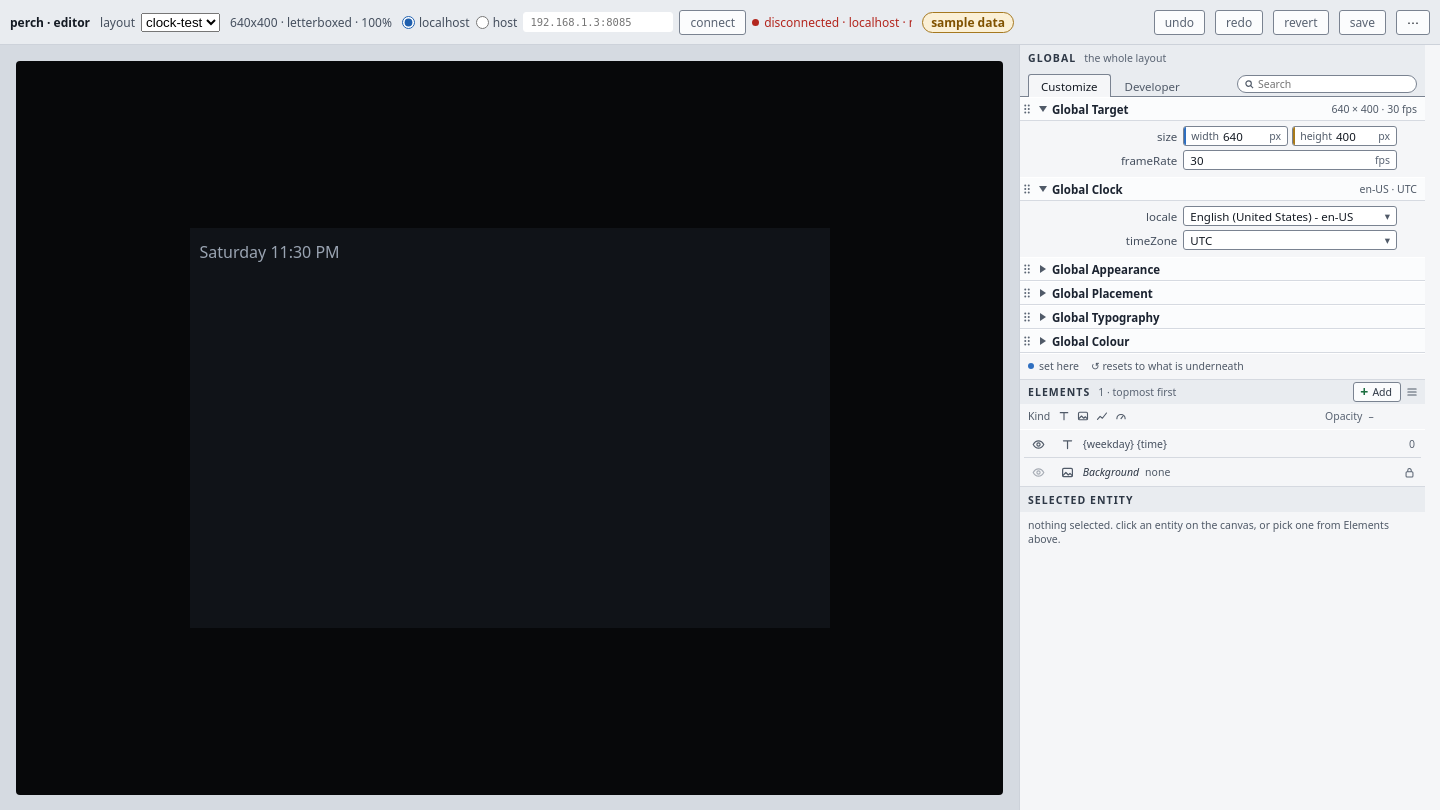
Test: the layout clock rows › repaints the preview clock in the locale and zone chosen
Click the button named "locale".
click(1290, 216)  # box 1183,206 -> 1397,226
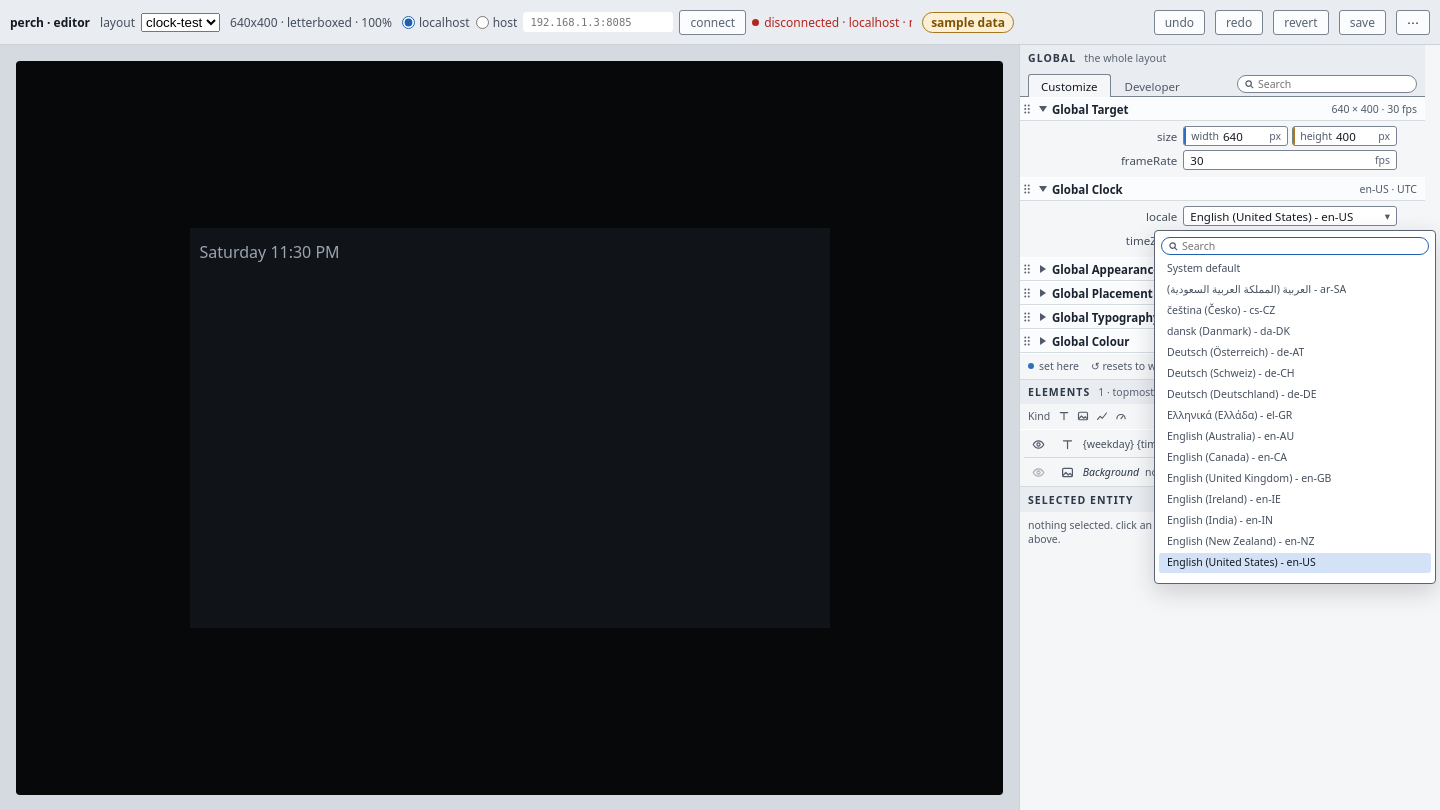
Click the option "Deutsch (Deutschland) - de-DE".
click(1295, 395)  # box 1159,385 -> 1431,405
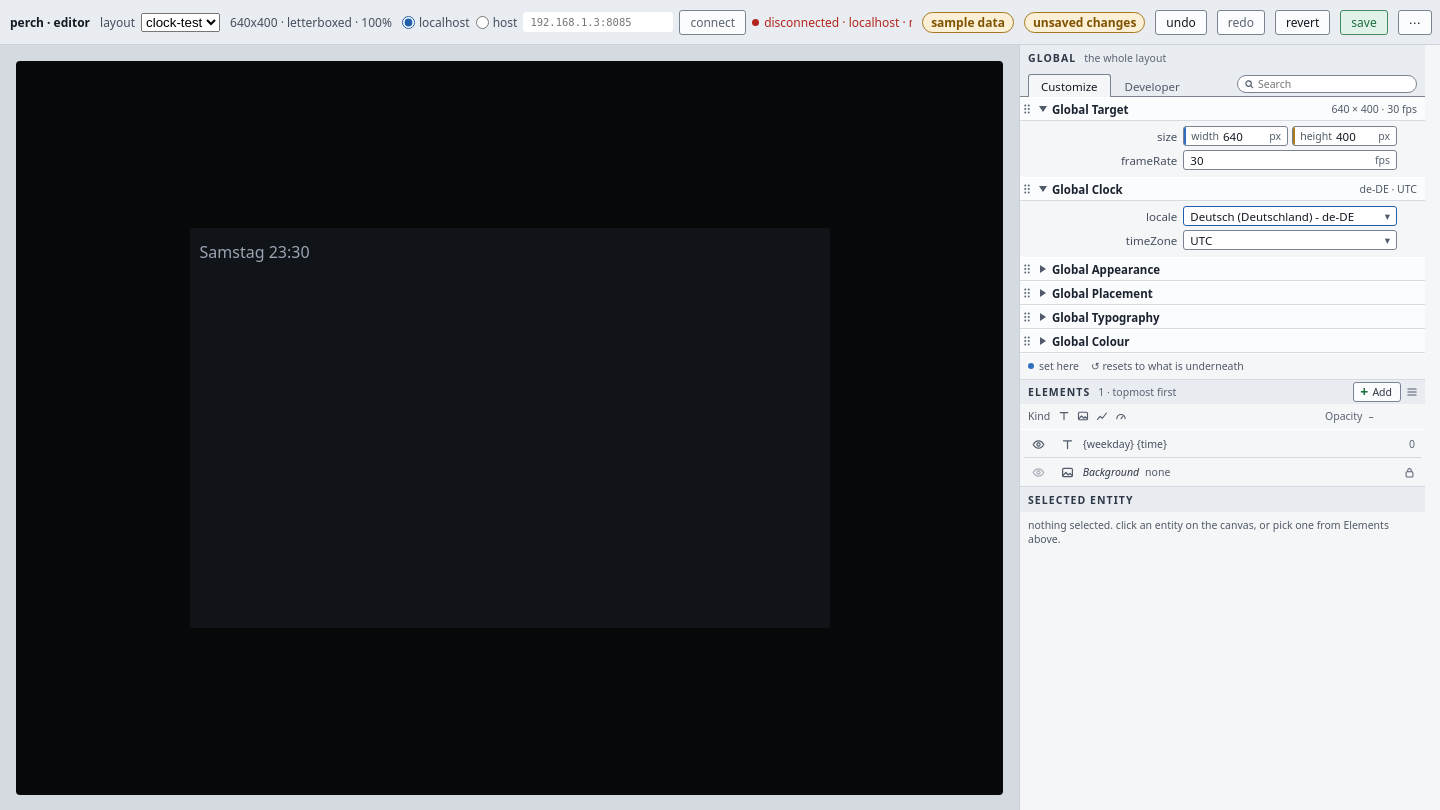
Check: the element showing "Samstag 23:30" is shown, box 200,242 -> 310,263
Check: the button named "locale" shows "Deutsch (Deutschland) - de-DE", box 1183,206 -> 1397,226
Click the button "UTC ▾".
click(1290, 240)  # box 1183,230 -> 1397,250
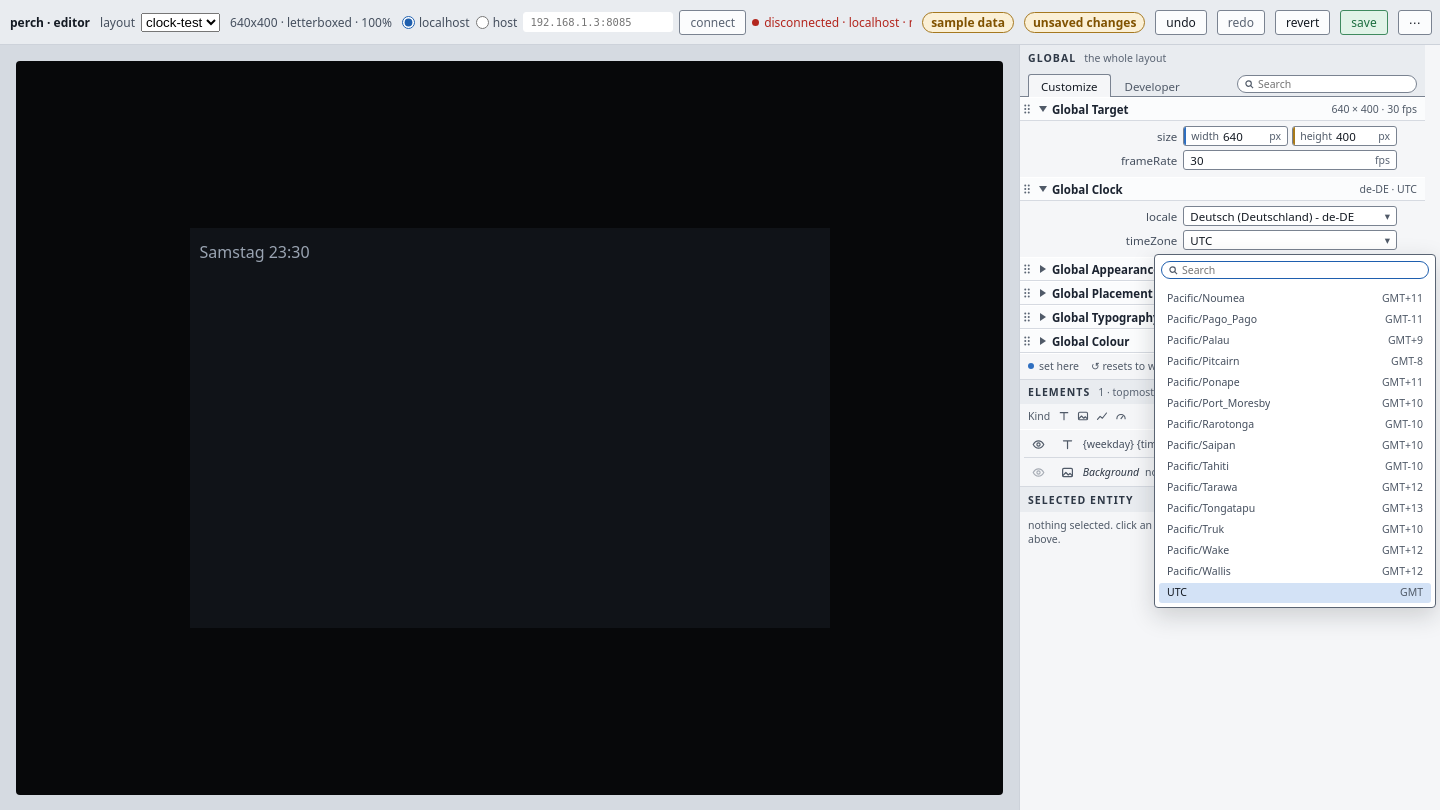
Type "tokyo" into the search field with placeholder "Search" below "timeZone".
click(1295, 270); type("tokyo")  # box 1161,261 -> 1429,279
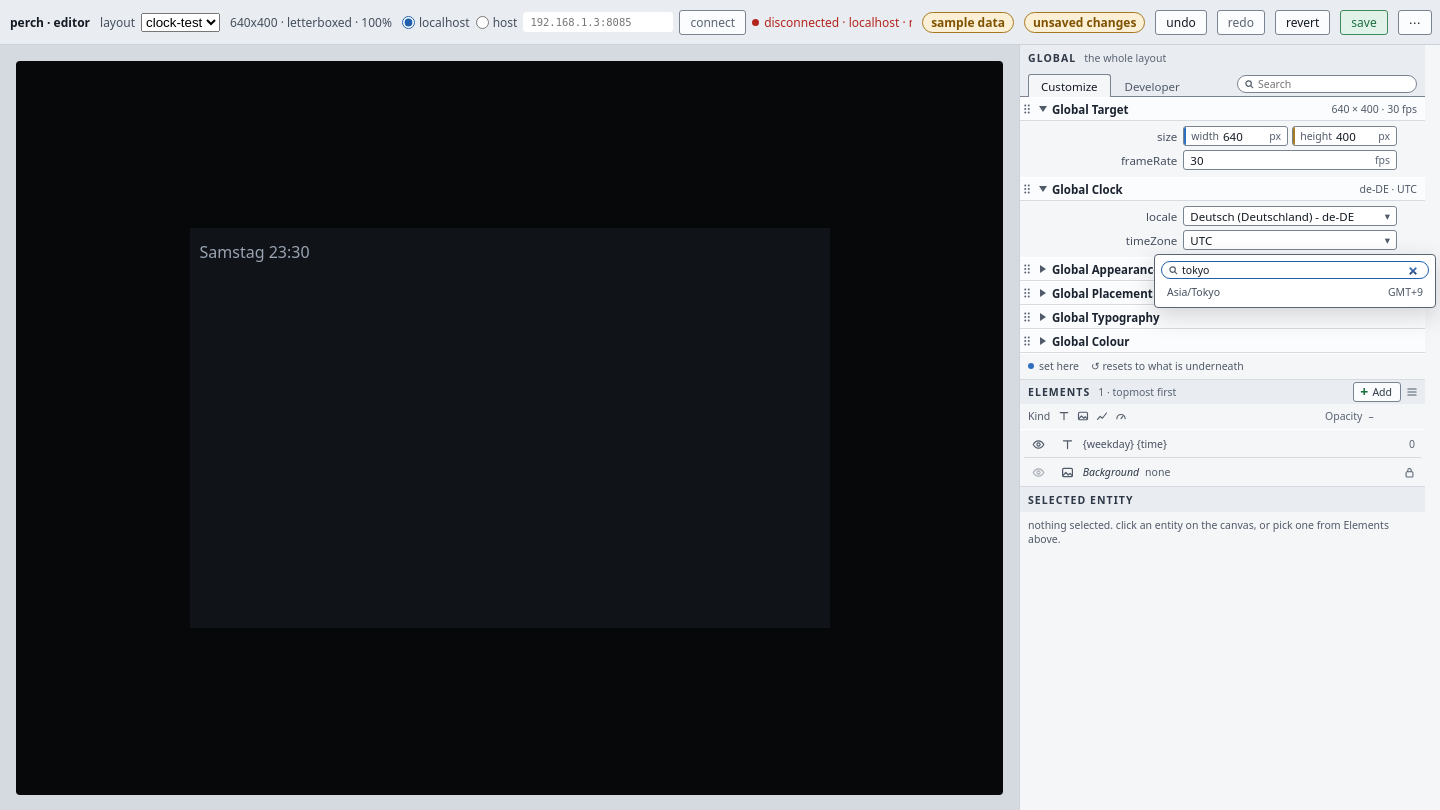
Click the option "Asia/Tokyo GMT+9".
click(1194, 292)  # box 1159,283 -> 1431,303
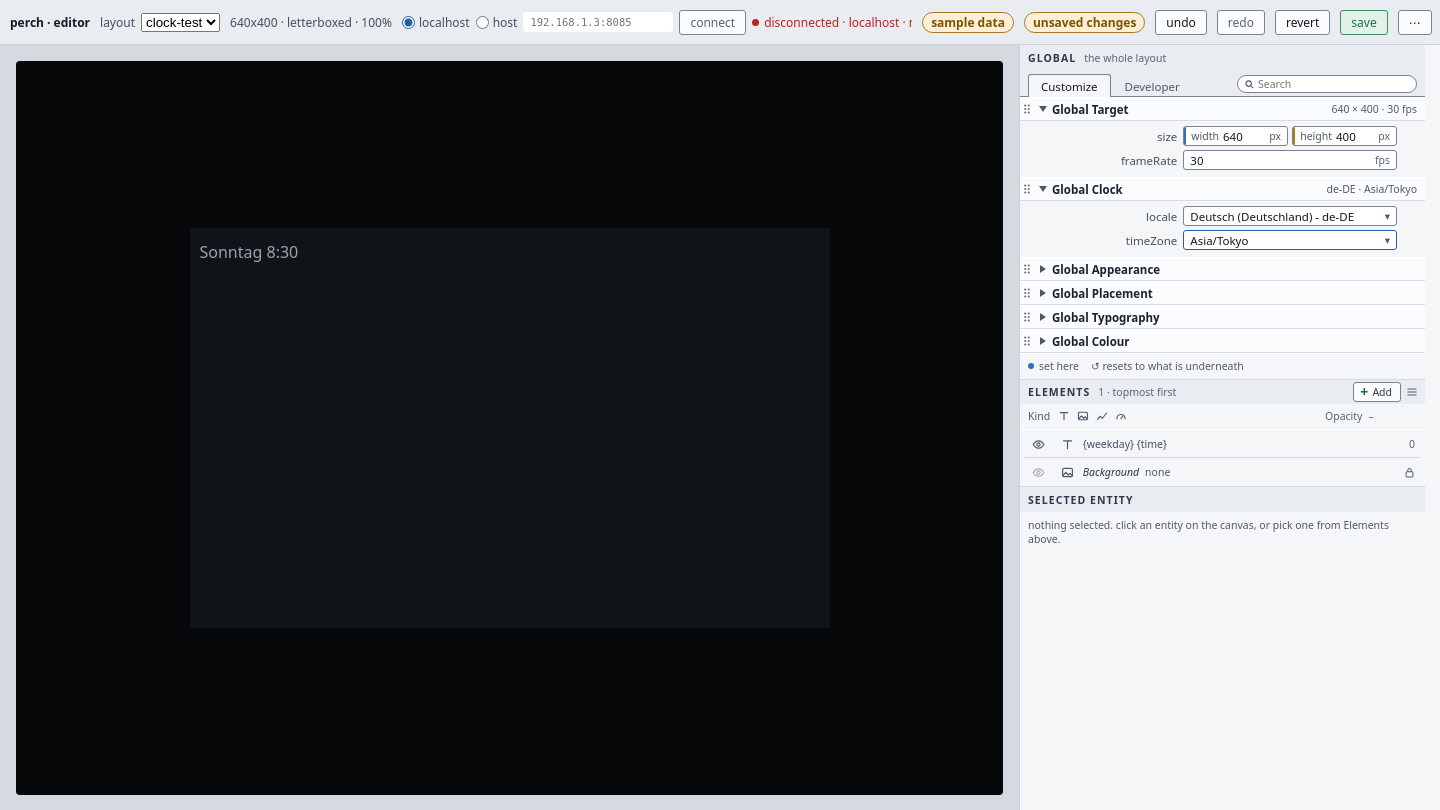
Check: the element showing "Sonntag 8:30" is shown, box 200,242 -> 298,263
